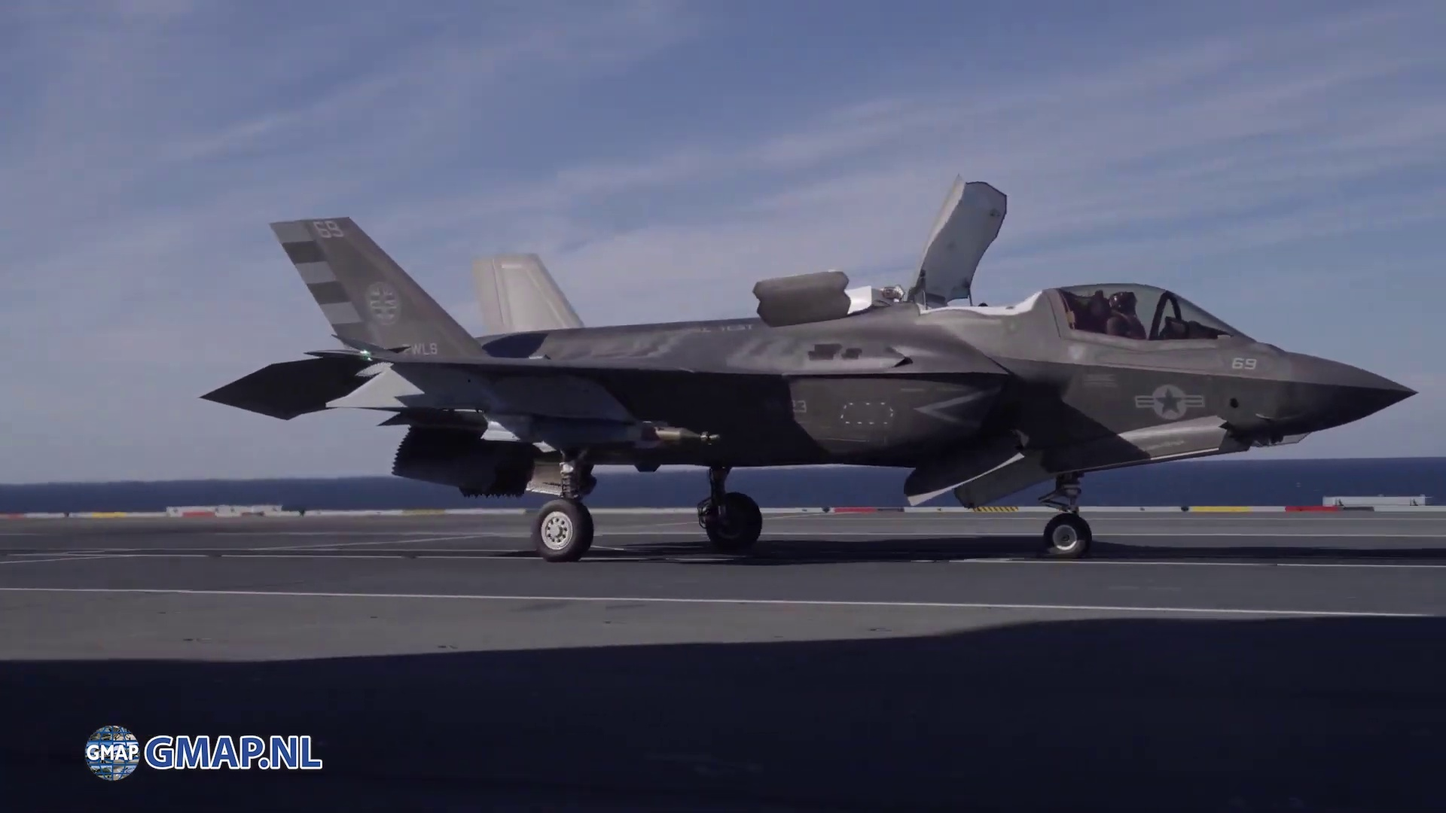F35: (192, 172, 1428, 568)
